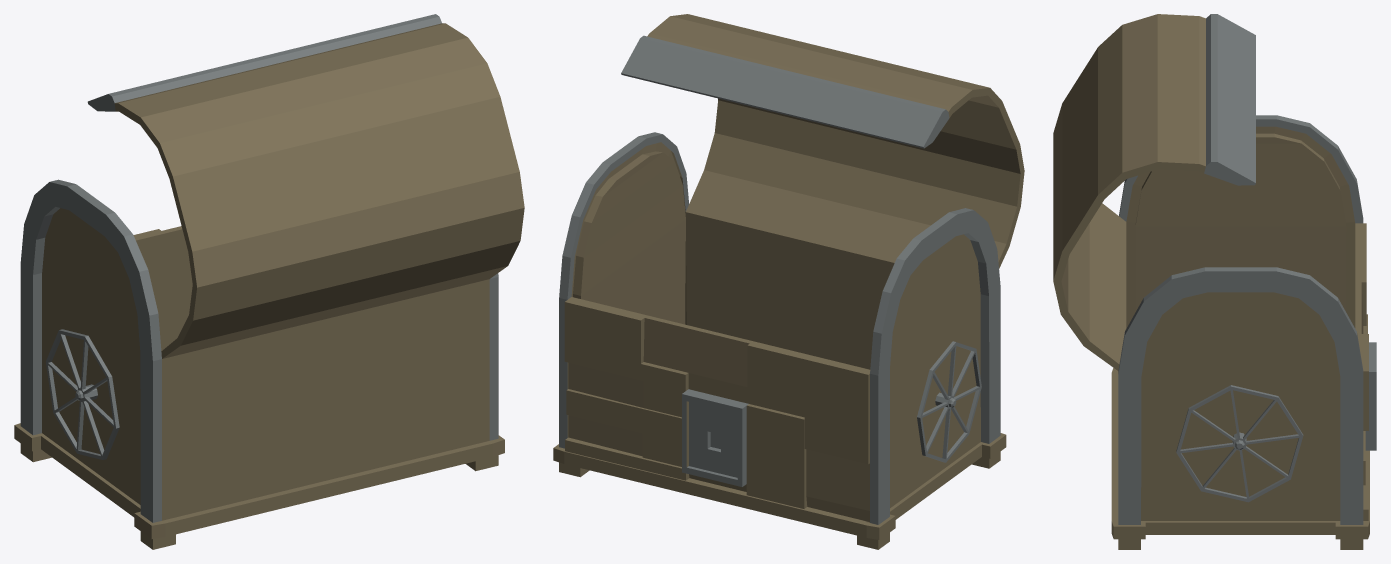
File: chest.fbx
3 views of the same model, side by side, from view 1: azimuth 30°, elevation 25°; view 2: azimuth 150°, elevation 25°; view 3: azimuth 270°, elevation 25° (orthographic). The views are drawn at different scales.
Parts seen in each view (by area): view 1: Chest; view 2: Chest; view 3: Chest.
Part boxes in pixels (x1,y1,x2,y2): Chest: [14, 14, 524, 549]; Chest: [553, 14, 1024, 549]; Chest: [1053, 14, 1376, 549].
Size of the model in its own units: 243 by 261 by 199.
